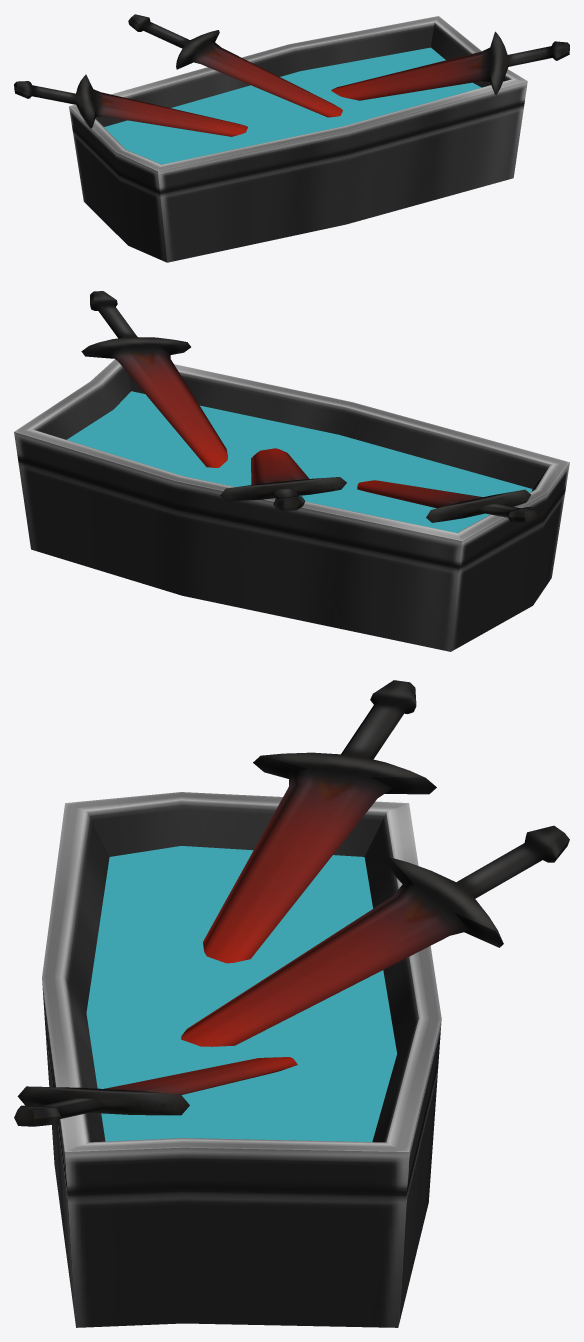
File: zhucheng_tiejiang_shui.FBX
The picture shows the model from 3 angles, top to bottom: view 1: azimuth 30°, elevation 25°; view 2: azimuth 150°, elevation 25°; view 3: azimuth 270°, elevation 25°; orthographic projection. The views are drawn at different scales.
Parts seen in each view (by area): view 1: zhucheng_tiejiang_shui; view 2: zhucheng_tiejiang_shui; view 3: zhucheng_tiejiang_shui.
Boxes of the visible parts, left/top/right/bottom form: zhucheng_tiejiang_shui: left=14, top=14, right=569, bottom=262; zhucheng_tiejiang_shui: left=14, top=291, right=569, bottom=651; zhucheng_tiejiang_shui: left=14, top=680, right=569, bottom=1327.
Bounding box in the file's own units: 195 × 53.83 × 105.
